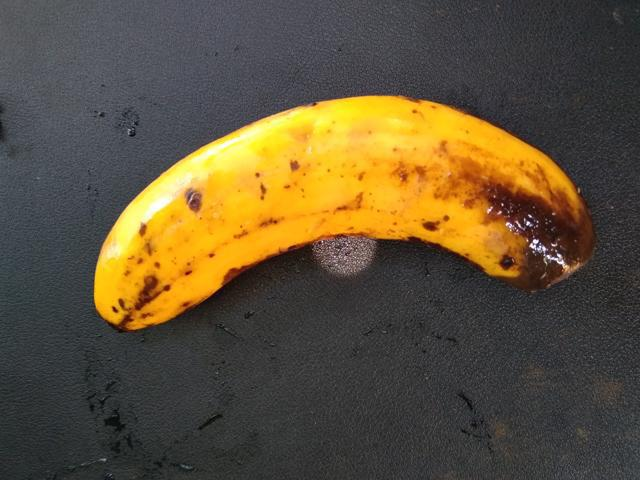ripe: (76, 76, 415, 361)
rotten: (389, 73, 635, 320)
